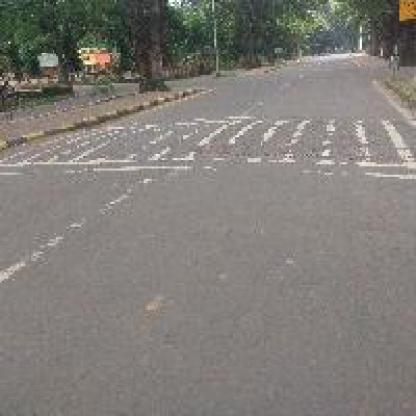Speed Bump: (0, 112, 412, 179)
